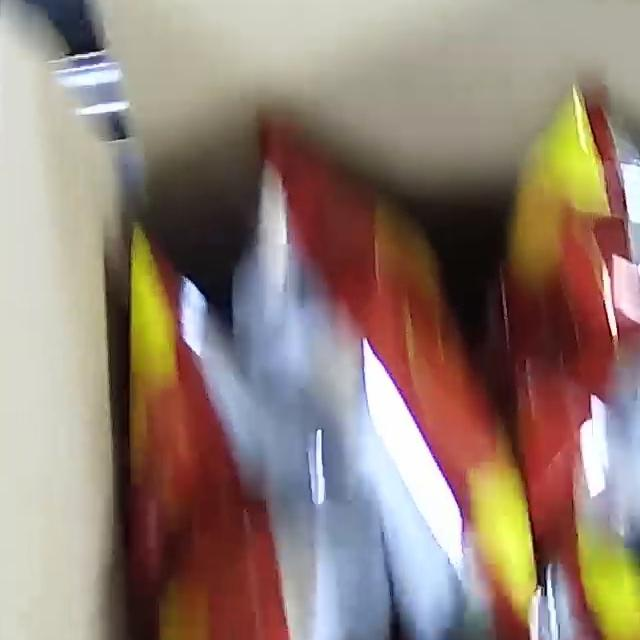masala: (127, 182, 640, 640)
